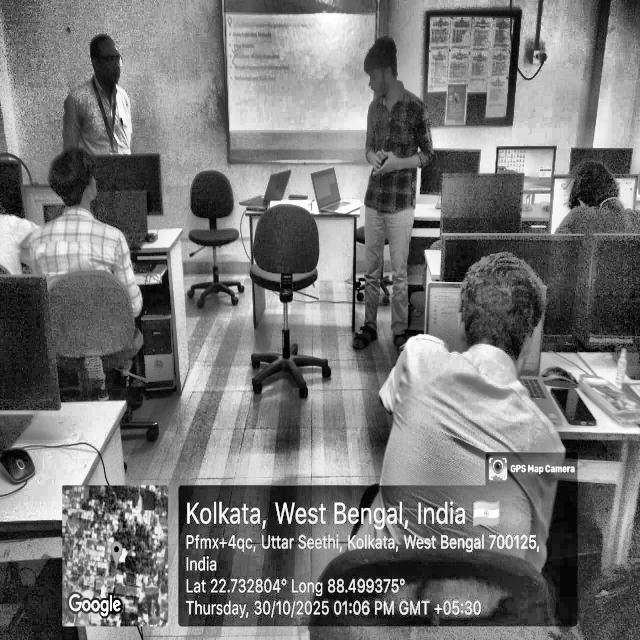Focus: (446, 216, 608, 364), (75, 14, 150, 115), (44, 144, 104, 202)
Not Focus: (364, 29, 416, 104)
